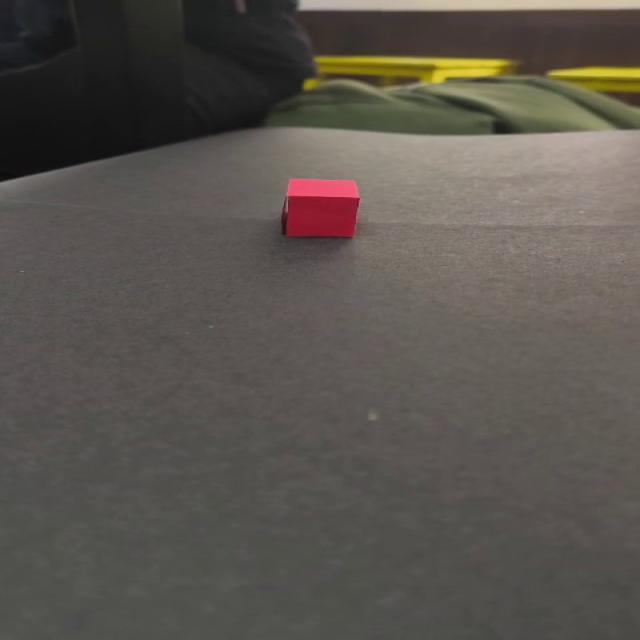red block: (280, 178, 360, 238)
